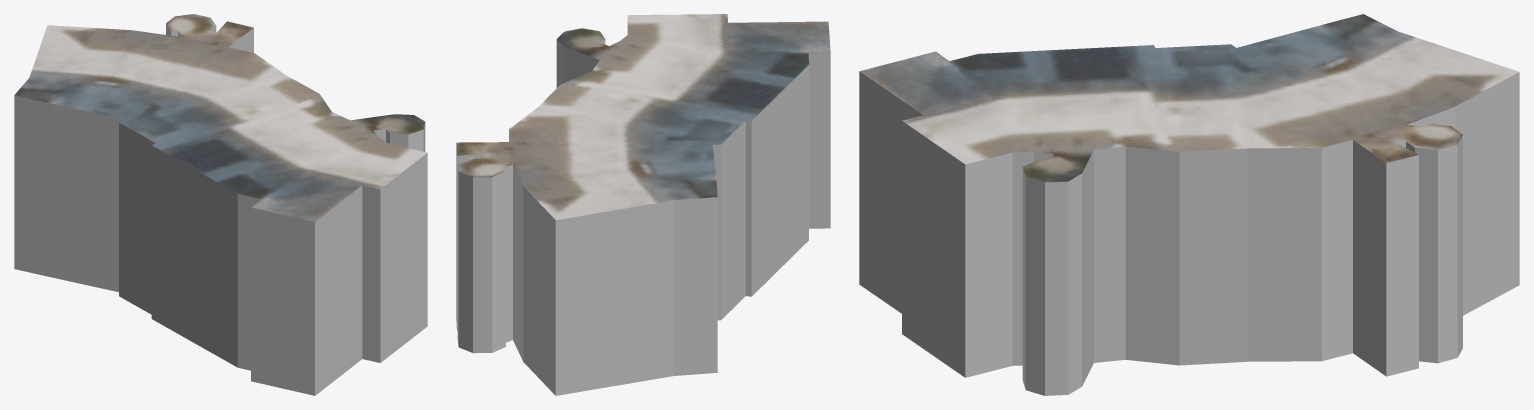
The model's file is DEBW_0010007Tvlu.gltf.
The picture shows the model from 3 angles, left to right: view 1: azimuth 30°, elevation 25°; view 2: azimuth 150°, elevation 25°; view 3: azimuth 270°, elevation 25°; orthographic projection. The views are drawn at different scales.
Visible parts, largest first — view 1: Z_UP; view 2: Z_UP; view 3: Z_UP.
Boxes of the visible parts, <box> form: Z_UP: <box>14,14,427,395</box>; Z_UP: <box>456,14,830,395</box>; Z_UP: <box>859,14,1519,395</box>.
Bounding box in the file's own units: 21.02 × 12.41 × 34.78.
2 materials, 1 textured.
